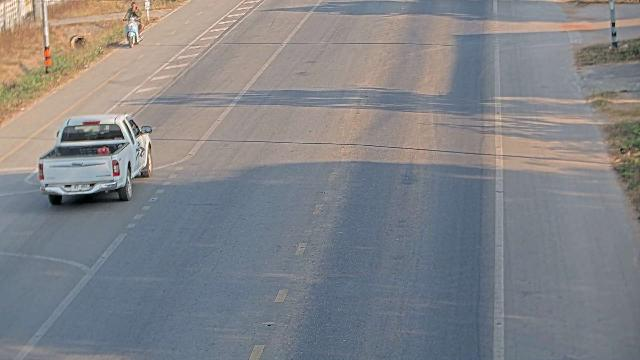pickup-truck: (37, 113, 153, 205)
